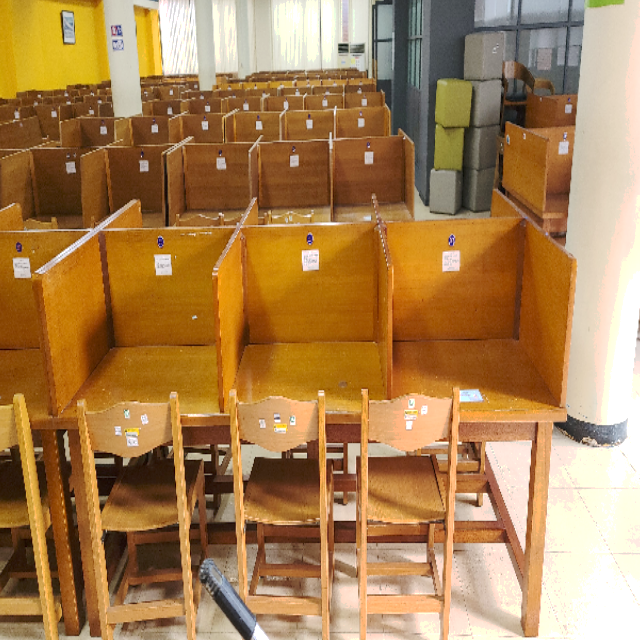empty: (390, 196, 574, 497), (49, 221, 221, 516), (229, 212, 387, 510)
